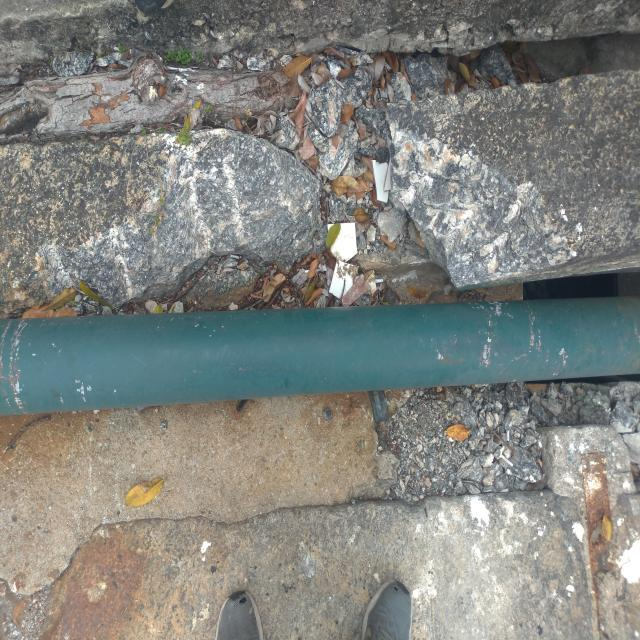gas: (6, 298, 638, 414)
